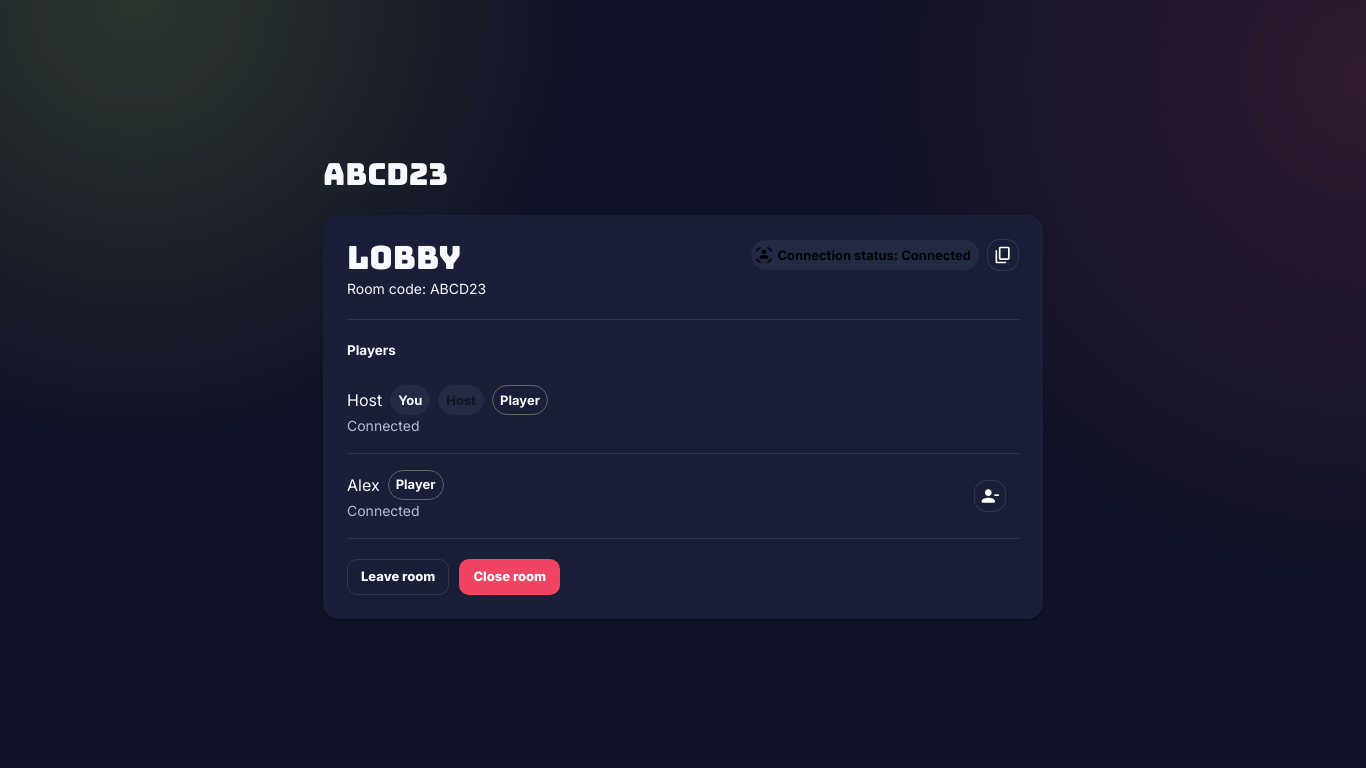
Test: game-web app › removes a player from the host lobby after the remove action succeeds
The image size is (1366, 768).
Check: the text "Alex" is shown, box left=347, top=472, right=380, bottom=498
Step 1. Click the button named "Remove Alex" → (990, 496), box left=974, top=480, right=1006, bottom=512
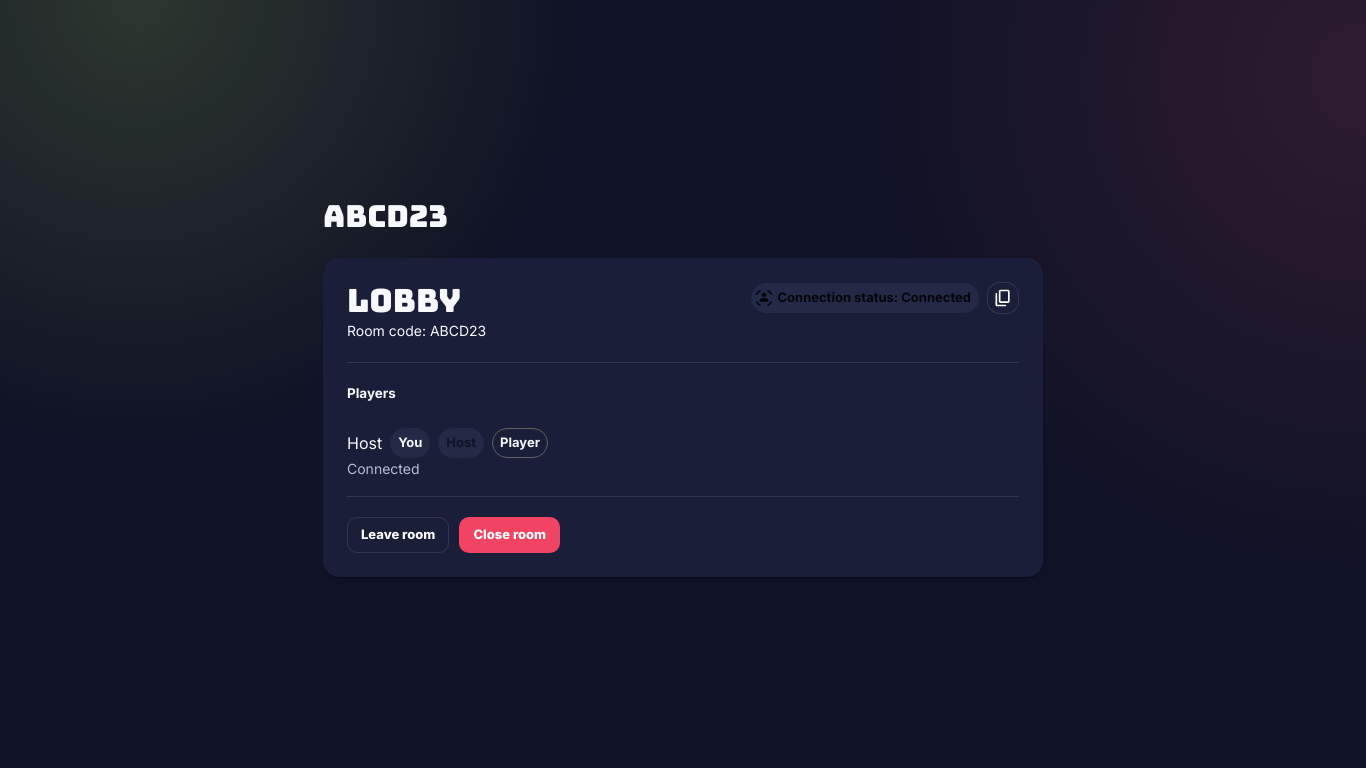
Check: the text "Alex" is gone
